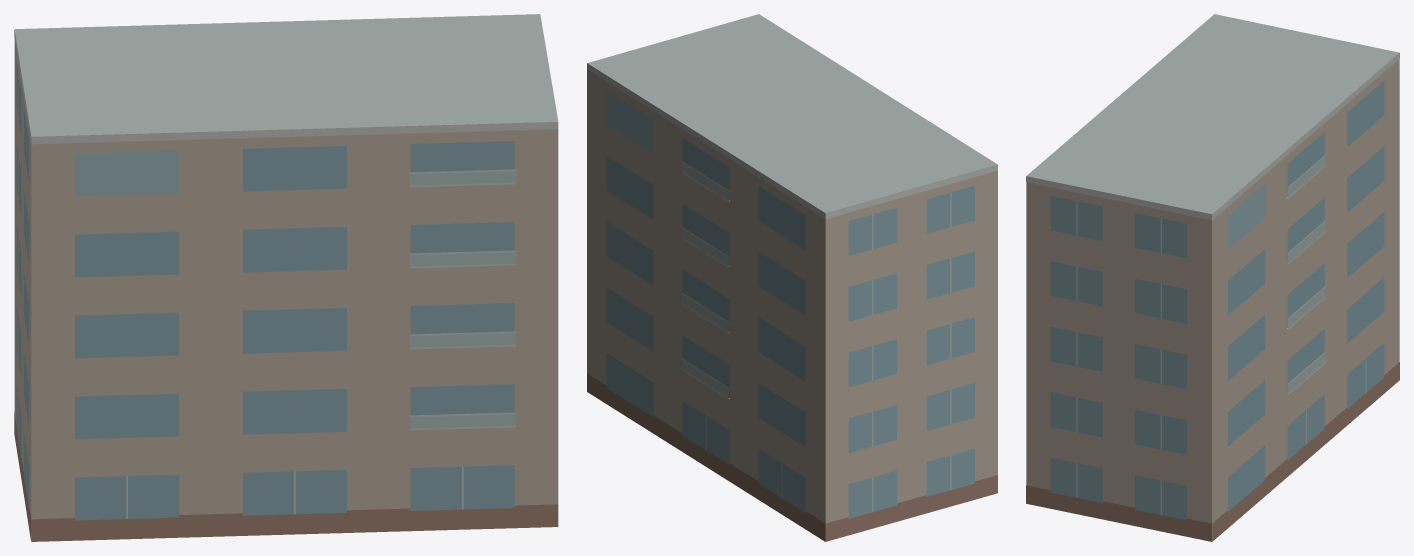
File: survey-upis-32884303.glb
The picture shows the model from 3 angles, left to right: view 1: azimuth 30°, elevation 25°; view 2: azimuth 150°, elevation 25°; view 3: azimuth 270°, elevation 25°; orthographic projection. The views are drawn at different scales.
Parts seen in each view (by area): view 1: survey-upis-32884303.tmp; view 2: survey-upis-32884303.tmp; view 3: survey-upis-32884303.tmp.
Part boxes in pixels (left/top/right/bottom): survey-upis-32884303.tmp: left=14, top=14, right=558, bottom=541; survey-upis-32884303.tmp: left=587, top=14, right=997, bottom=541; survey-upis-32884303.tmp: left=1026, top=14, right=1399, bottom=541.
Bounding box in the file's own units: 17.32 × 13.2 × 13.65.
